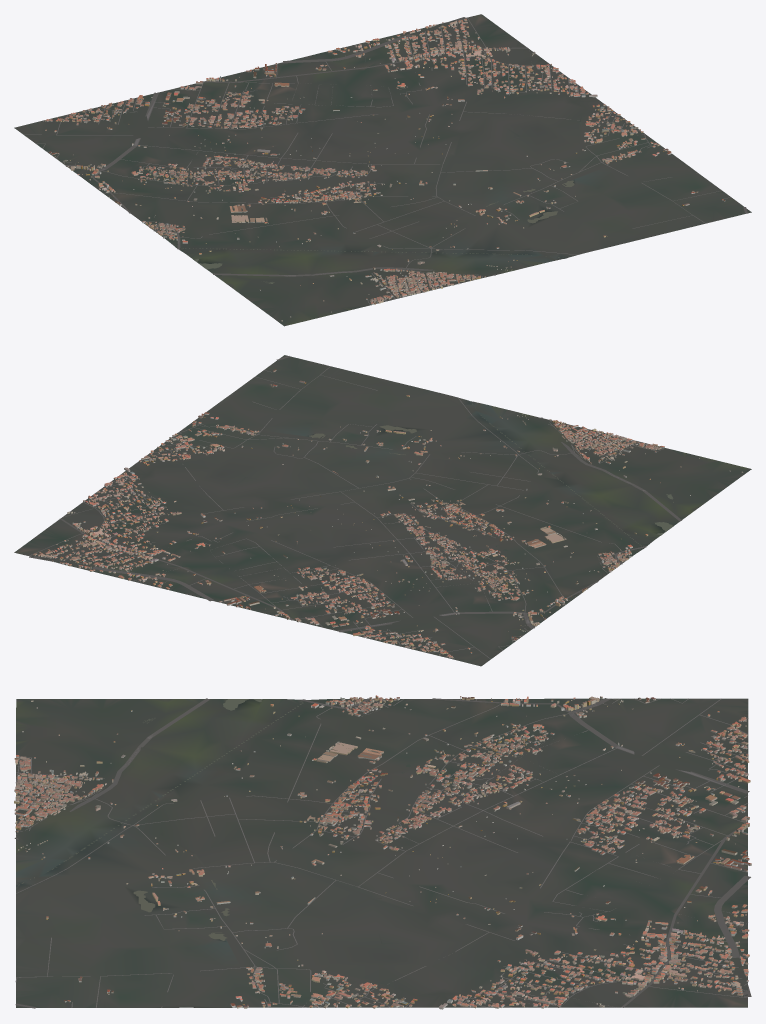
3 renders of one model, top to bottom at view 1: azimuth 30°, elevation 25°; view 2: azimuth 150°, elevation 25°; view 3: azimuth 270°, elevation 25°, orthographic. The views are drawn at different scales.
Parts seen in each view (by area): view 1: ground, buildings, roads, water; view 2: ground, buildings, roads, water; view 3: ground, buildings, roads, water.
Part boxes in pixels (<box>): ground: <box>14,14,751,326</box>; buildings: <box>44,18,725,321</box>; roads: <box>24,17,747,304</box>; water: <box>181,180,574,283</box>; ground: <box>14,355,751,666</box>; buildings: <box>33,369,742,658</box>; roads: <box>29,356,681,659</box>; water: <box>309,403,673,550</box>; ground: <box>16,698,748,1007</box>; buildings: <box>14,695,751,1009</box>; roads: <box>14,698,751,1008</box>; water: <box>18,699,410,940</box>.
Bounding box in the file's own units: 2822 × 30.37 × 2827.
